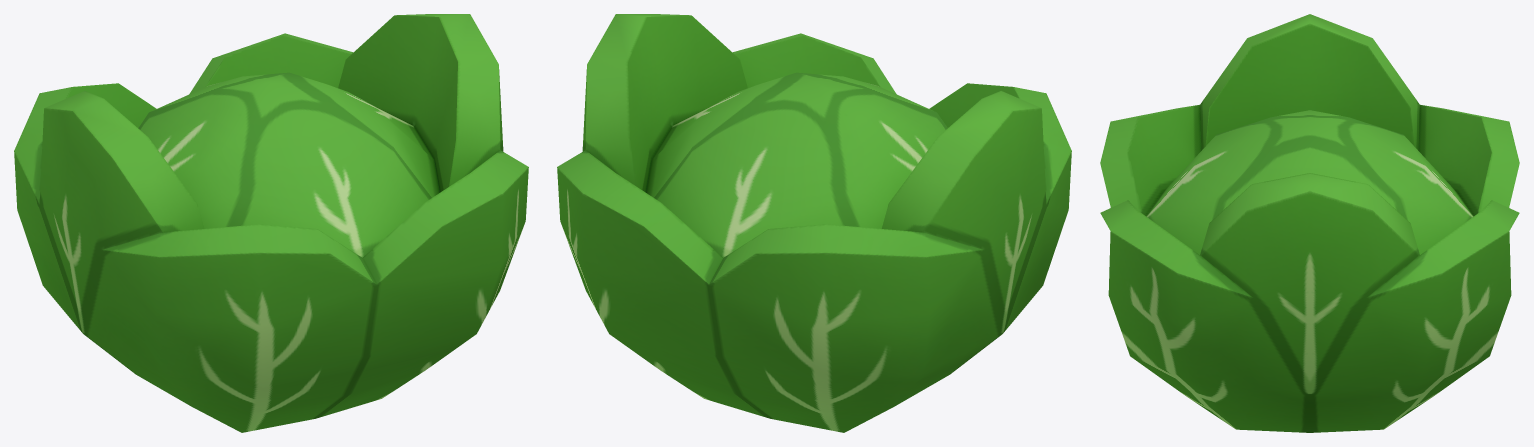
The model's file is Food_Vegetables_Lettuce.gltf.
3 renders of one model, left to right at view 1: azimuth 30°, elevation 25°; view 2: azimuth 150°, elevation 25°; view 3: azimuth 270°, elevation 25°, orthographic. The views are drawn at different scales.
Parts seen in each view (by area): view 1: Food_Vegetables_Lettuce; view 2: Food_Vegetables_Lettuce; view 3: Food_Vegetables_Lettuce.
Boxes of the visible parts, x1,y1,x2,y2 form: Food_Vegetables_Lettuce: (14, 14, 528, 432); Food_Vegetables_Lettuce: (557, 14, 1071, 432); Food_Vegetables_Lettuce: (1100, 14, 1519, 432).
Size of the model in its own units: 0.2185 by 0.1708 by 0.2093.
Materials: 1 (1 with a texture image).
